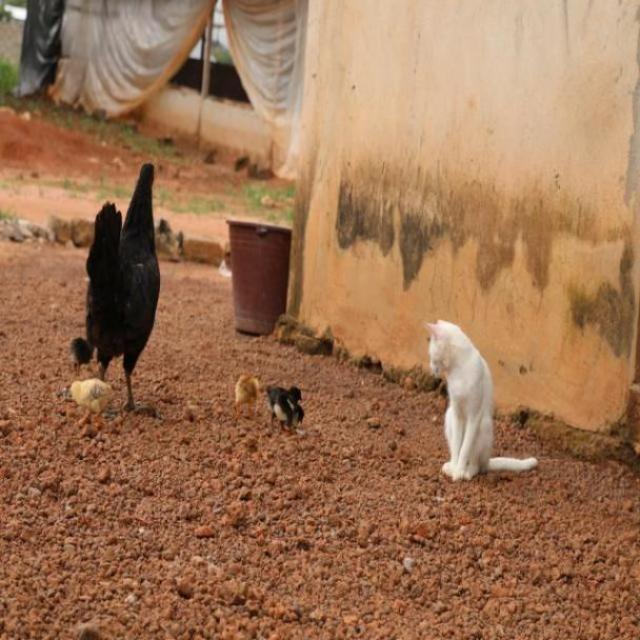Chicken: (87, 161, 174, 406)
